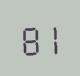eight: (19, 20, 39, 56)
one: (40, 19, 60, 55)
